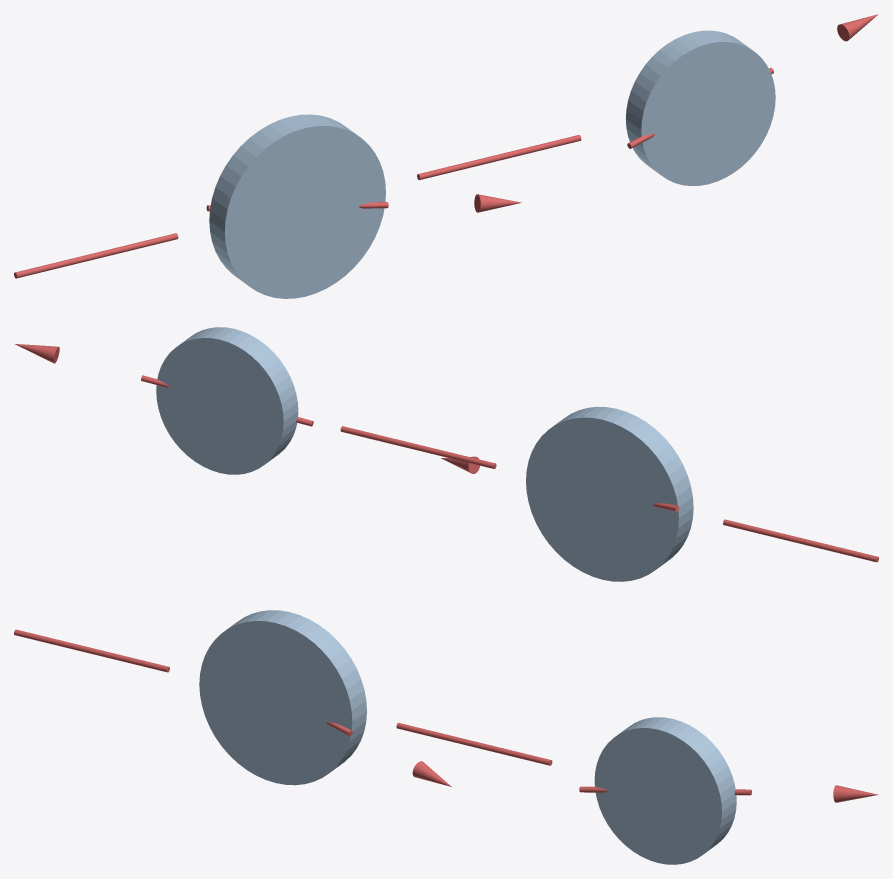
The model's file is refraction_lenses.glb.
The picture shows the model from 3 angles, top to bottom: view 1: azimuth 30°, elevation 25°; view 2: azimuth 150°, elevation 25°; view 3: azimuth 330°, elevation 25°; orthographic projection. The views are drawn at different scales.
Parts seen in each view (by area): view 1: world; view 2: world; view 3: world.
Boxes of the visible parts, x1=… form: world: x1=14, y1=14, x2=878, y2=298; world: x1=15, y1=327, x2=878, y2=581; world: x1=14, y1=610, x2=878, y2=864.
Size of the model in its own units: 6.6 by 1.2 by 0.6.
